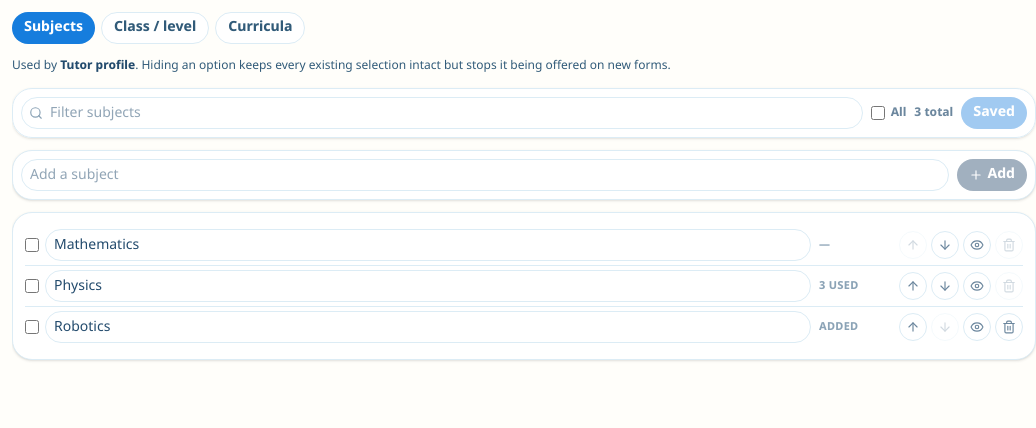
option catalog manager › surfaces a rejected save instead of pretending it worked
This screenshot has width=1036, height=428.
Replace the text in the 1st field named "Mathematics" with "Physics" at (428, 245), box x1=45 y1=229 x2=811 y2=261
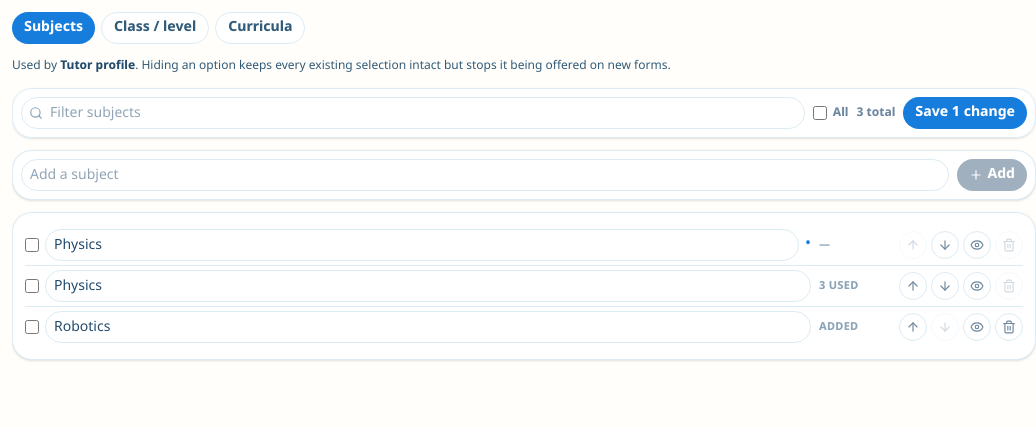
Click the button "Save 1 change" at (965, 113), box x1=903 y1=97 x2=1027 y2=129
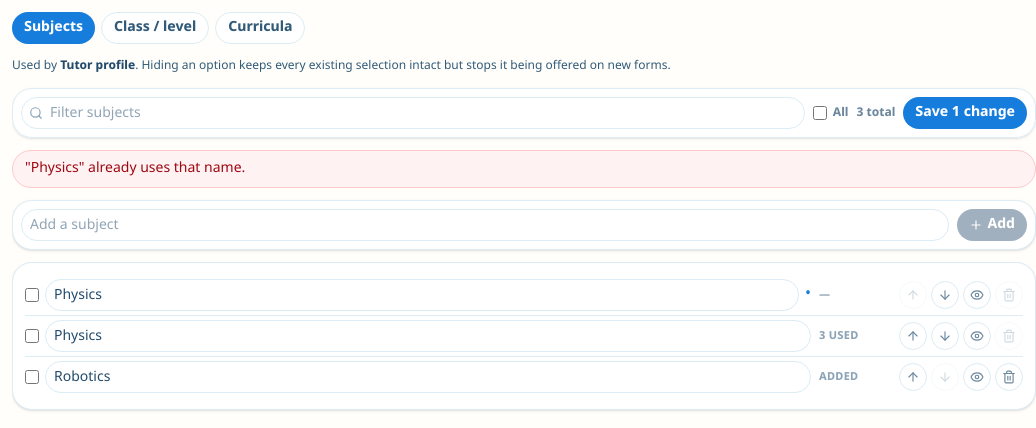
Expected: the message shows "already uses that name", x1=25 y1=159 x2=245 y2=178
